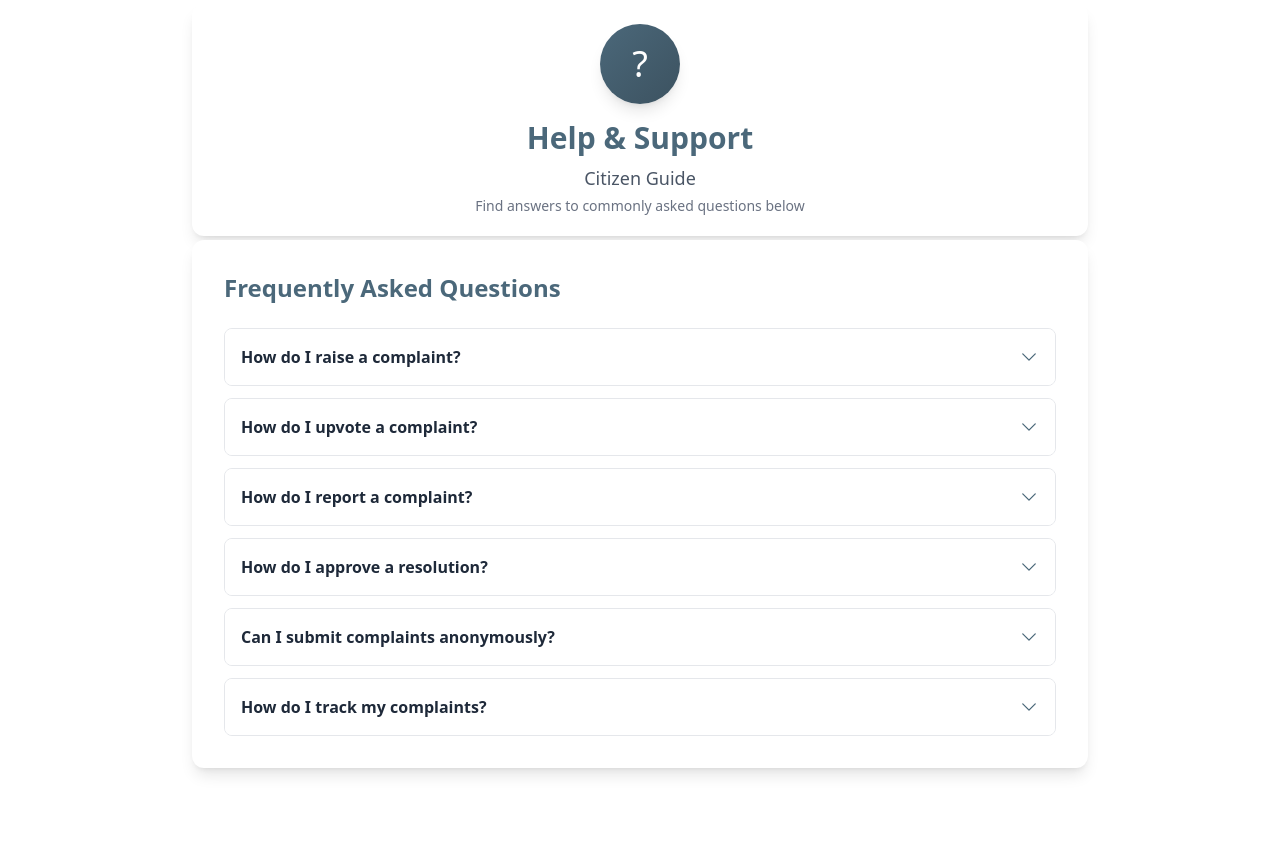
Scenario: Help Component - Complete Coverage › Accordion Interactions › should toggle FAQ open on button click
// Click to open
Click the button "How do I raise a complaint?". click: coordinates (351, 357)
box: [225,329,1055,385]
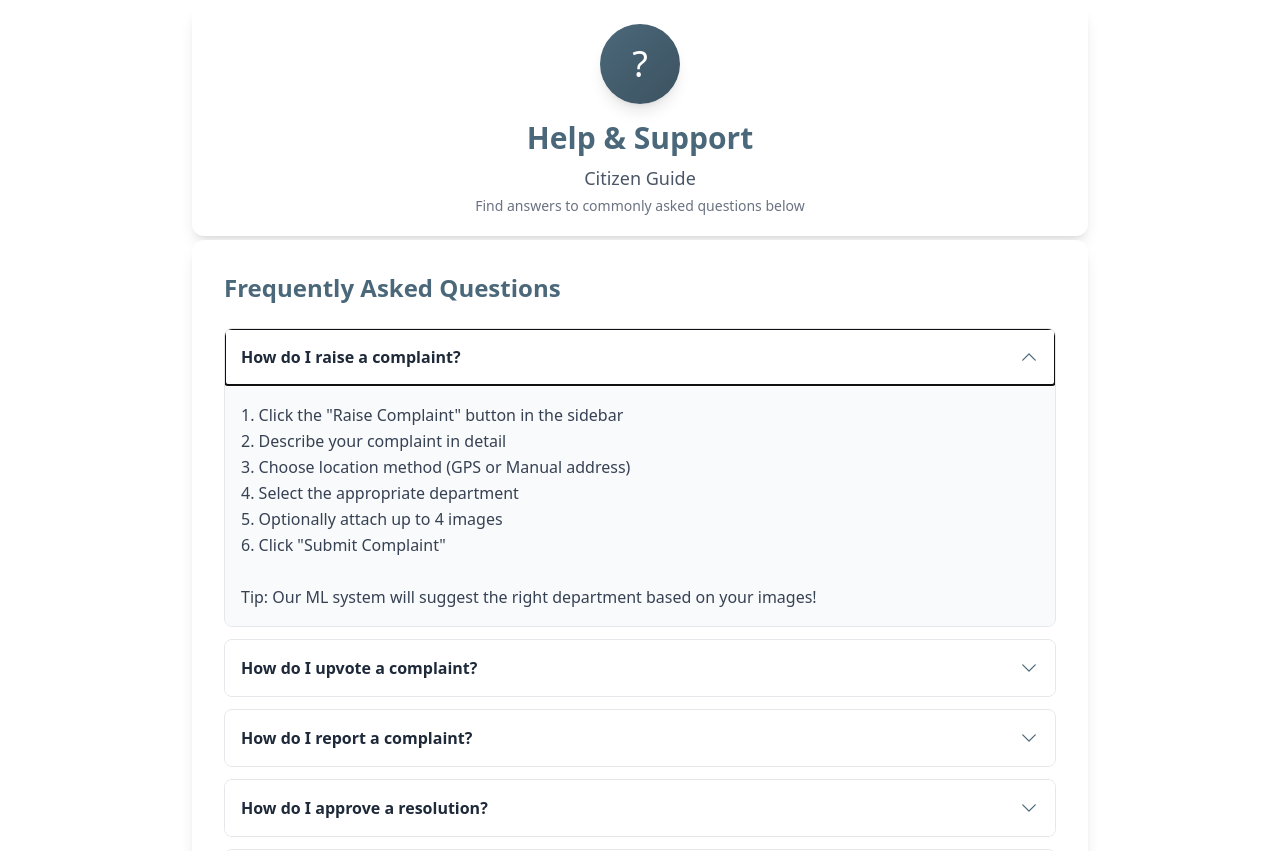
expect the text "Click the \"Raise Complaint\" button in the sidebar" is shown: met, box [241,404,817,608]
